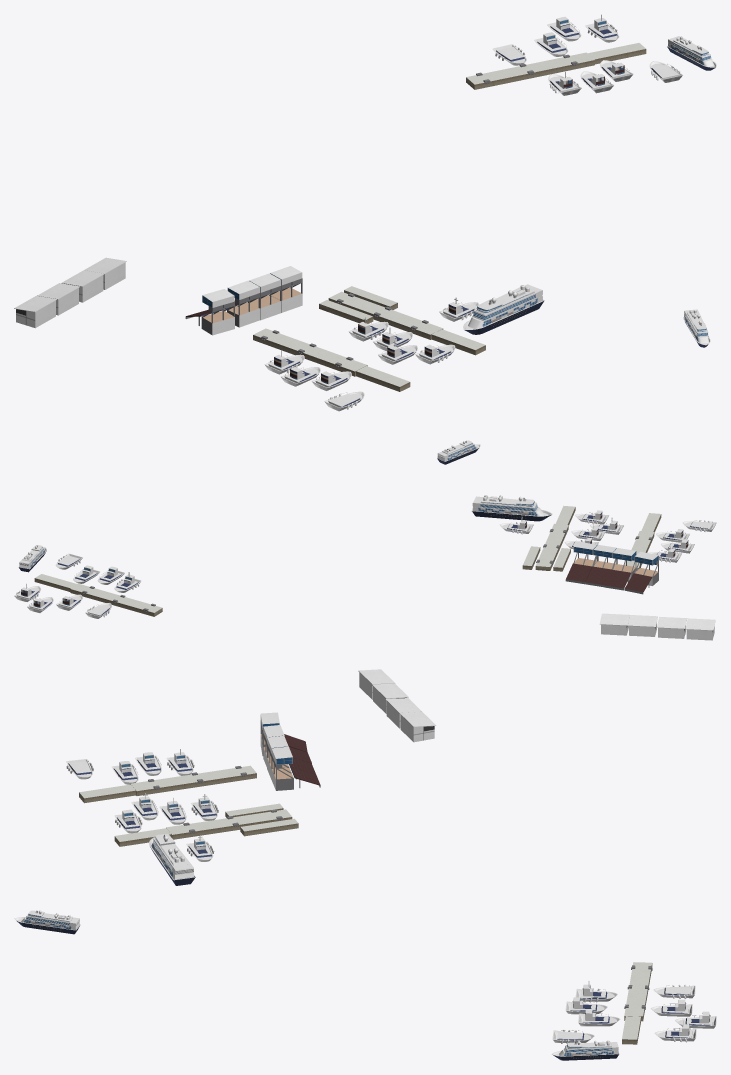
The model's file is Monaco_track_landmark_01.dae.
3 renders of one model, top to bottom at view 1: azimuth 30°, elevation 25°; view 2: azimuth 150°, elevation 25°; view 3: azimuth 270°, elevation 25°, orthographic. The views are drawn at different scales.
Parts seen in each view (by area): view 1: Monaco_track_landmark_01; view 2: Monaco_track_landmark_01; view 3: Monaco_track_landmark_01.
Boxes of the visible parts, box(x1,y1,x2,y2) form: Monaco_track_landmark_01: box(14, 14, 716, 411); Monaco_track_landmark_01: box(14, 440, 716, 640); Monaco_track_landmark_01: box(14, 669, 716, 1060).
Bounding box in the file's own units: 139 × 111 × 7.28.
3 materials, 3 textured.
